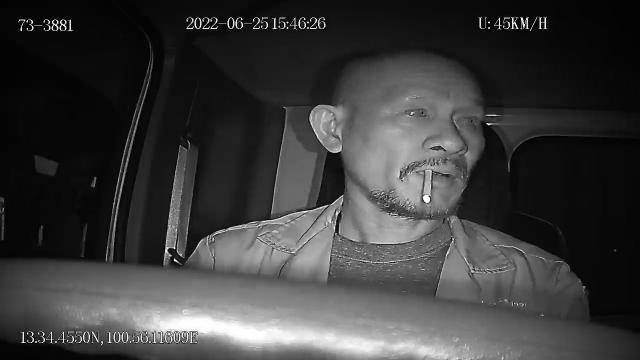SafeDriving: (394, 98, 436, 124), (447, 104, 484, 132)
Smoking: (422, 169, 434, 204)
